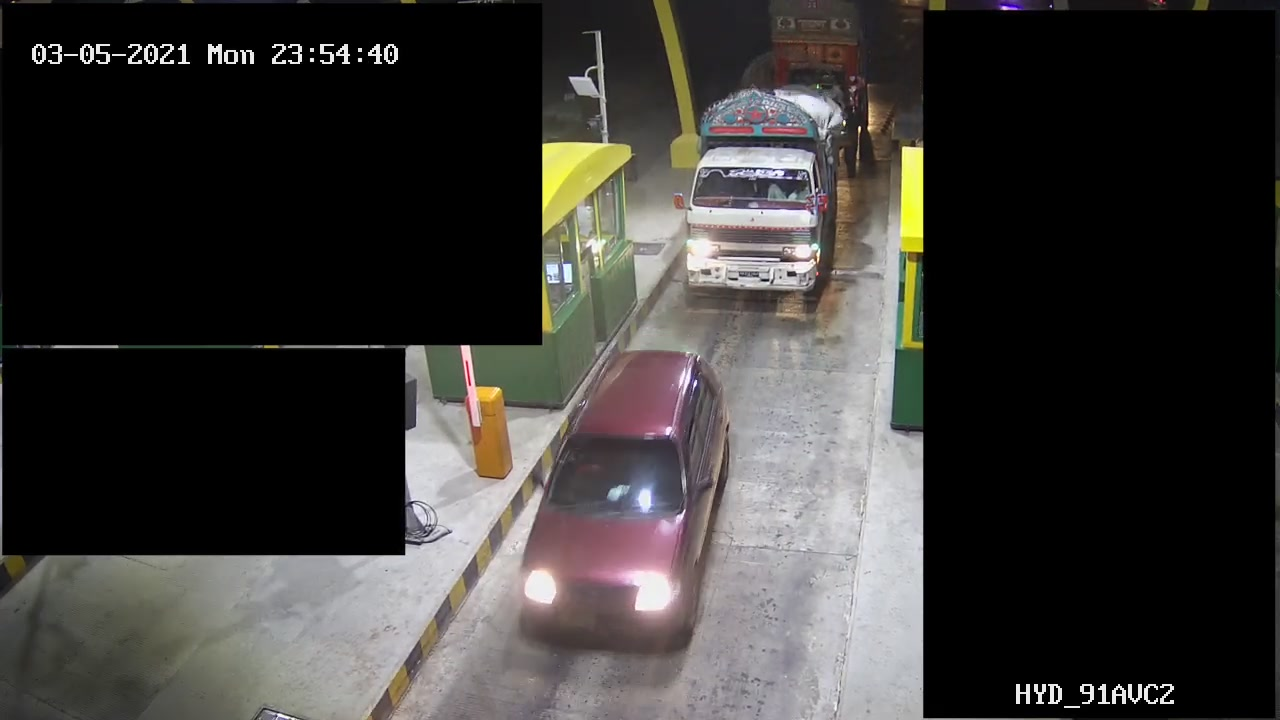F5: (682, 87, 842, 296)
